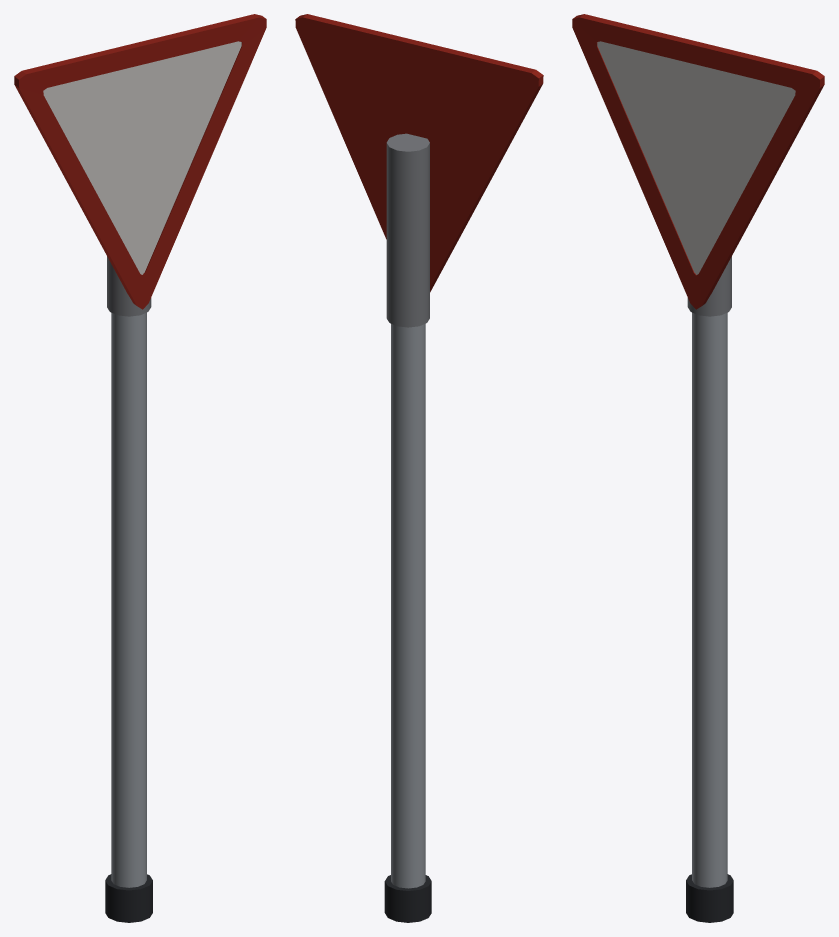
The model's file is TrafficSign_4.fbx.
The picture shows the model from 3 angles, left to right: view 1: azimuth 30°, elevation 25°; view 2: azimuth 150°, elevation 25°; view 3: azimuth 330°, elevation 25°; orthographic projection.
Parts seen in each view (by area): view 1: TrafficSign_4; view 2: TrafficSign_4; view 3: TrafficSign_4.
Part boxes in pixels (x1,y1,x2,y2): TrafficSign_4: (14, 14, 266, 922); TrafficSign_4: (295, 14, 543, 922); TrafficSign_4: (572, 14, 824, 922).
Bounding box in the file's own units: 60.54 × 205 × 10.88.
